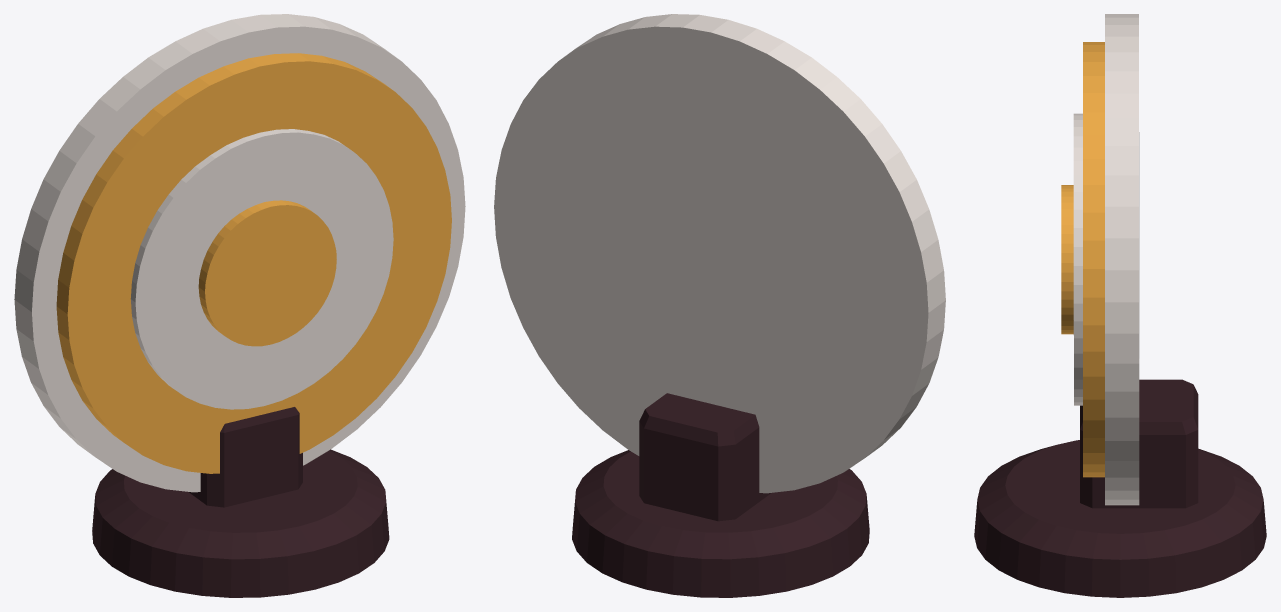
Rendered from gunners-cup-shield.glb.
The picture shows the model from 3 angles, left to right: view 1: azimuth 30°, elevation 25°; view 2: azimuth 150°, elevation 25°; view 3: azimuth 270°, elevation 25°; orthographic projection. The views are drawn at different scales.
Parts seen in each view (by area): view 1: gunners-cup-shield · Gilt, gunners-cup-shield · Chased silver, gunners-cup-shield · Ebonized wood; view 2: gunners-cup-shield · Chased silver, gunners-cup-shield · Ebonized wood; view 3: gunners-cup-shield · Ebonized wood, gunners-cup-shield · Chased silver, gunners-cup-shield · Gilt.
Boxes of the visible parts, bbox=[...] form: gunners-cup-shield · Gilt: bbox=[56, 53, 451, 473]; gunners-cup-shield · Chased silver: bbox=[14, 14, 465, 492]; gunners-cup-shield · Ebonized wood: bbox=[92, 407, 389, 597]; gunners-cup-shield · Chased silver: bbox=[494, 14, 945, 493]; gunners-cup-shield · Ebonized wood: bbox=[572, 393, 869, 597]; gunners-cup-shield · Ebonized wood: bbox=[974, 379, 1266, 597]; gunners-cup-shield · Chased silver: bbox=[1073, 14, 1139, 505]; gunners-cup-shield · Gilt: bbox=[1061, 42, 1104, 477].
Bounding box in the file's own units: 1.58 × 1.77 × 0.9399.
